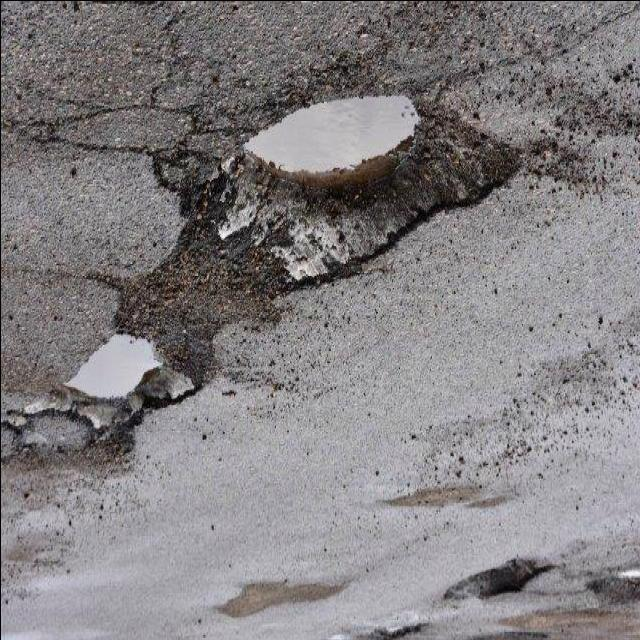jalan retak: (8, 64, 210, 206), (362, 2, 640, 92)
lubang: (187, 45, 527, 308), (91, 210, 302, 354), (45, 326, 208, 430), (2, 388, 142, 477), (212, 564, 354, 632), (442, 552, 562, 612), (381, 475, 506, 521), (5, 535, 75, 577), (352, 610, 440, 640), (578, 569, 639, 607), (486, 623, 564, 639)
